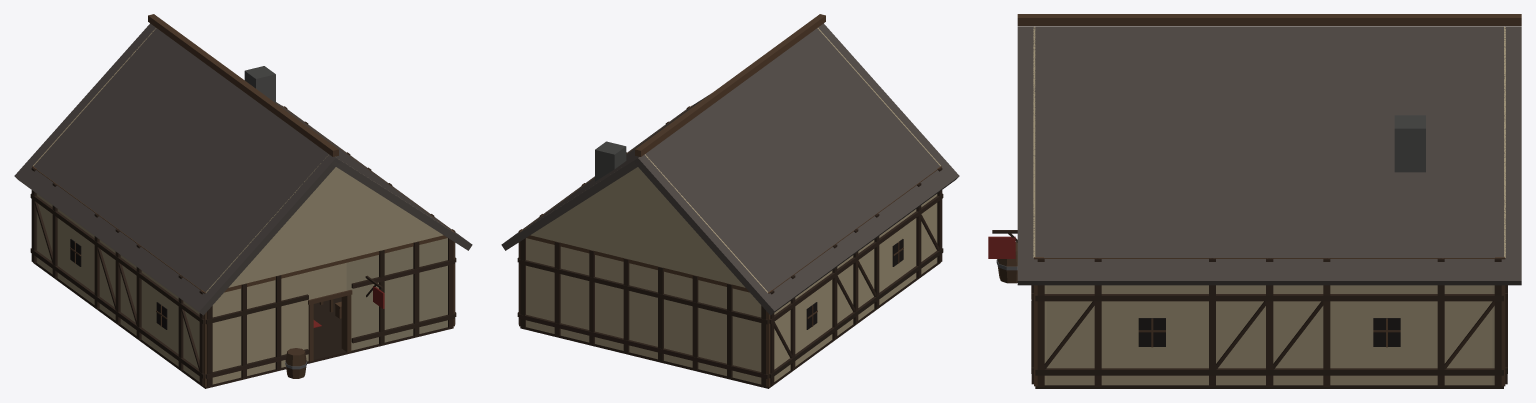
Rendered from walk_hallowed_tavern.glb.
3 views of the same model, side by side, from view 1: azimuth 30°, elevation 25°; view 2: azimuth 150°, elevation 25°; view 3: azimuth 270°, elevation 25° (orthographic). The views are drawn at different scales.
Visible parts, largest first — view 1: walk_hallowed_tavern_roof, walk_hallowed_tavern; view 2: walk_hallowed_tavern_roof, walk_hallowed_tavern; view 3: walk_hallowed_tavern_roof, walk_hallowed_tavern.
Part boxes in pixels (x1,y1,x2,y2): walk_hallowed_tavern_roof: (14,14,472,315); walk_hallowed_tavern: (30,105,456,388); walk_hallowed_tavern_roof: (501,14,959,315); walk_hallowed_tavern: (517,105,943,388); walk_hallowed_tavern_roof: (1017,14,1521,285); walk_hallowed_tavern: (988,230,1507,388).
Size of what is drawn, in the model's own units: 11 by 8.2 by 13.65.
2 materials, 2 textured.
